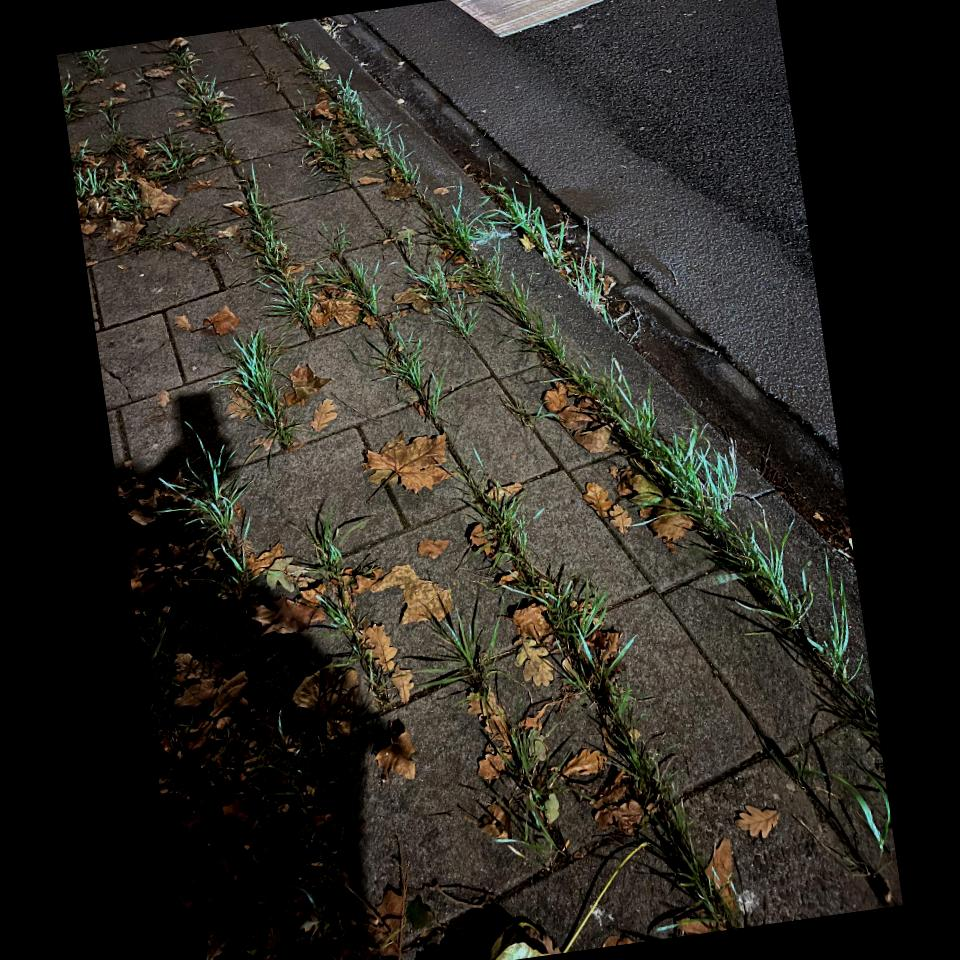weed: (454, 455, 741, 932), (513, 306, 825, 657), (320, 248, 443, 429), (491, 187, 615, 324), (298, 43, 419, 182), (163, 435, 250, 596), (304, 514, 377, 688), (240, 168, 315, 330), (498, 713, 568, 862), (217, 329, 296, 452), (417, 603, 499, 716), (427, 202, 503, 294), (809, 561, 863, 688), (419, 263, 479, 340), (296, 104, 351, 181), (178, 74, 232, 127), (107, 173, 142, 219), (74, 167, 111, 200)
